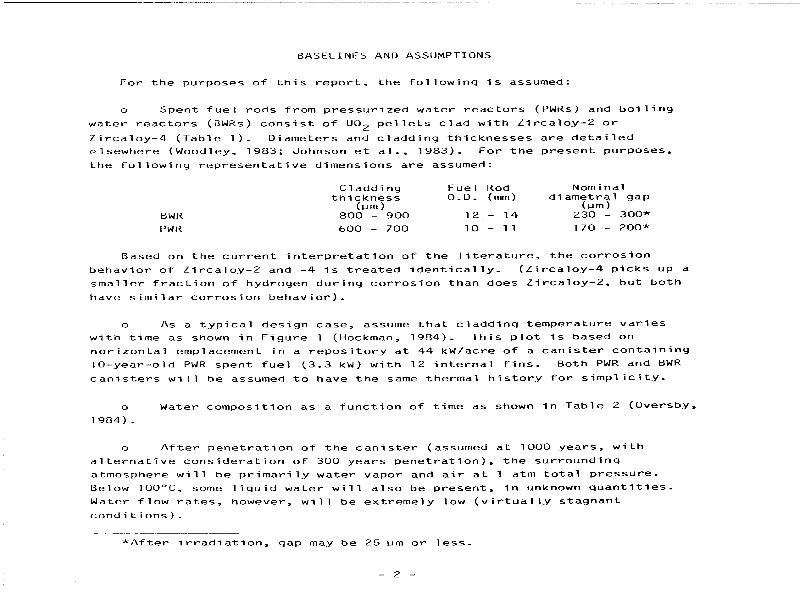table: (89, 177, 690, 248)
